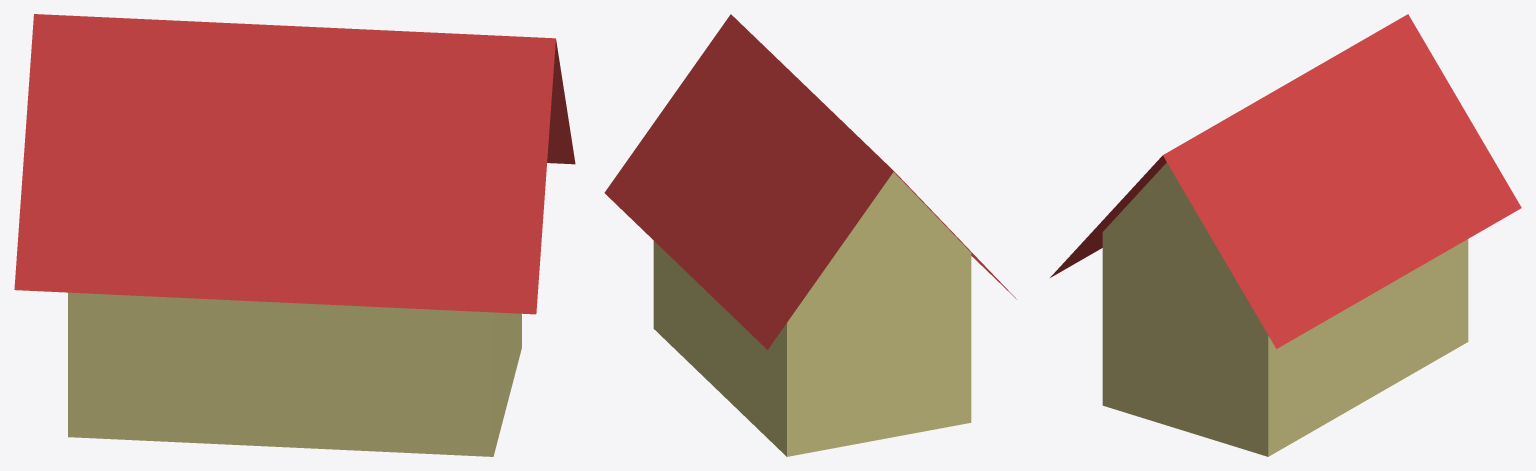
3 views of the same model, side by side, from view 1: azimuth 30°, elevation 25°; view 2: azimuth 150°, elevation 25°; view 3: azimuth 270°, elevation 25° (orthographic). The views are drawn at different scales.
Parts seen in each view (by area): view 1: group_3, group_5, group_4; view 2: group_5, group_3; view 3: group_3, group_5.
Part boxes in pixels (x1=…): group_3: x1=14, y1=15, x2=555, y2=314; group_5: x1=68, y1=292, x2=521, y2=456; group_4: x1=15, y1=14, x2=575, y2=314; group_5: x1=653, y1=172, x2=971, y2=456; group_3: x1=604, y1=14, x2=1016, y2=349; group_3: x1=1050, y1=14, x2=1521, y2=348; group_5: x1=1102, y1=162, x2=1468, y2=456.
Bounding box in the file's own units: 13.08 × 12.34 × 8.33.
